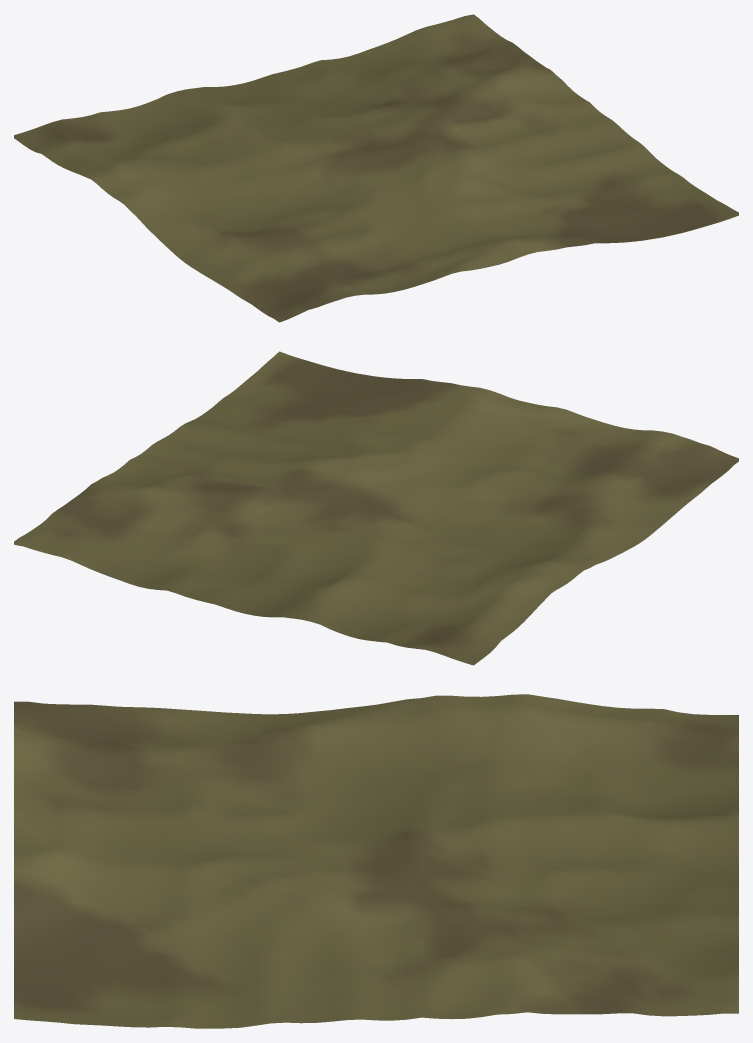
The model's file is land_m_04_09.glb.
The picture shows the model from 3 angles, top to bottom: view 1: azimuth 30°, elevation 25°; view 2: azimuth 150°, elevation 25°; view 3: azimuth 270°, elevation 25°; orthographic projection. The views are drawn at different scales.
Visible parts, largest first — view 1: land_m_04_09; view 2: land_m_04_09; view 3: land_m_04_09.
Boxes of the visible parts, x1=… form: land_m_04_09: x1=14, y1=14, x2=738, y2=322; land_m_04_09: x1=14, y1=351, x2=738, y2=665; land_m_04_09: x1=14, y1=694, x2=738, y2=1028.
Size of the model in its own units: 960 by 52.12 by 960.
